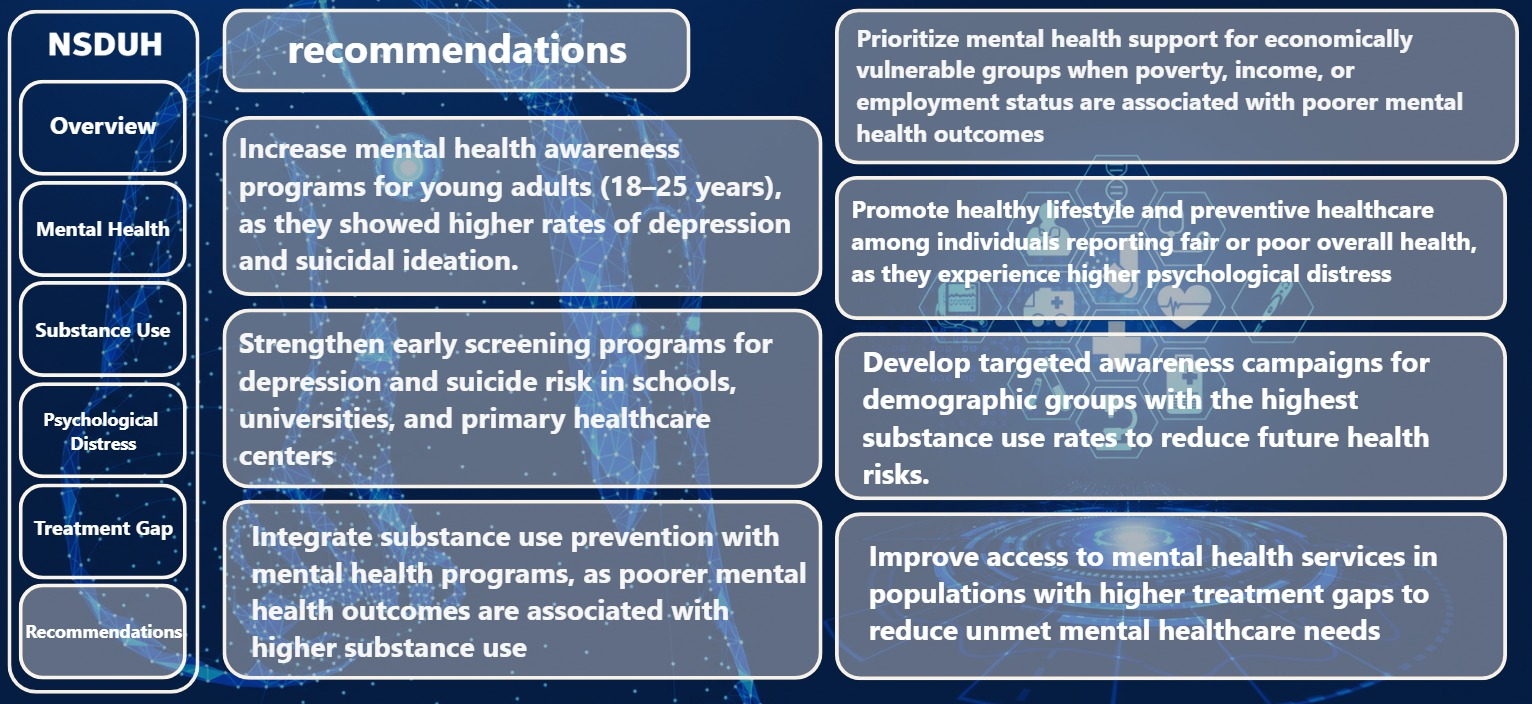

What the dashboard file says about the page in this screenshot:
{"tool":"powerbi","page":{"name":"Recommendations","canvas":[1750,960],"ordinal":4},"visuals":[{"type":"textbox","box":[288.6,14.7,647.3,125.5],"z":0},{"type":"pageNavigator","box":[19.6,57.1,234.8,842.9],"z":1000},{"type":"shape","box":[1.6,14.7,270.7,931],"z":2000},{"type":"textbox","box":[288.6,163,1403.8,122.3],"z":3000},{"type":"textbox","box":[288.6,308.2,1403.8,128.8],"z":3001},{"type":"textbox","box":[288.6,454.9,1403.8,123.9],"z":3002},{"type":"textbox","box":[287,595.1,1403.8,172.8],"z":3003},{"type":"textbox","box":[288.6,779.4,1403.8,150],"z":3004}]}

Visuals, with their boxes on the page's 1750x960 design canvas (x1, y1, x2, y2). These are canvas units, not pixel positions in the 1532x704 screenshot, which may show the page scaled, cropped or inside an application window:
textbox: crop(289, 15, 936, 140)
pageNavigator: crop(20, 57, 254, 900)
shape: crop(2, 15, 272, 946)
textbox: crop(289, 163, 1692, 285)
textbox: crop(289, 308, 1692, 437)
textbox: crop(289, 455, 1692, 579)
textbox: crop(287, 595, 1691, 768)
textbox: crop(289, 779, 1692, 929)
